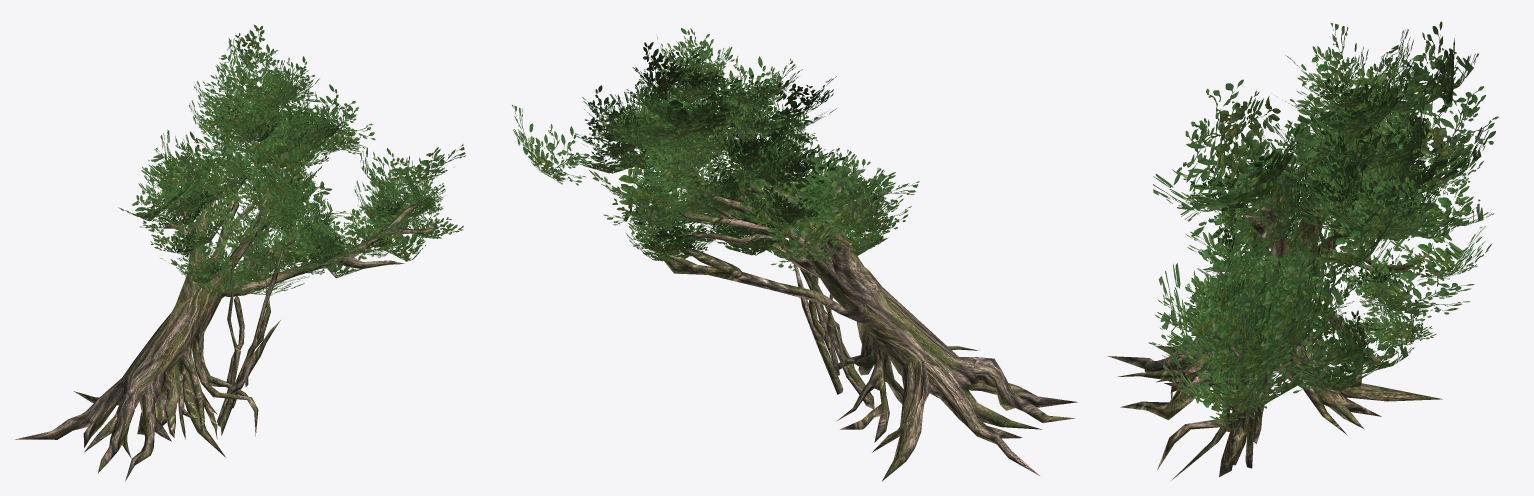
Rendered from QYS_HS_FS01_SHU.FBX.
The picture shows the model from 3 angles, left to right: view 1: azimuth 30°, elevation 25°; view 2: azimuth 150°, elevation 25°; view 3: azimuth 270°, elevation 25°; orthographic projection. The views are drawn at different scales.
Parts seen in each view (by area): view 1: QYS_HS_FS01_SY, QYS_HS_FS01_SG; view 2: QYS_HS_FS01_SY, QYS_HS_FS01_SG; view 3: QYS_HS_FS01_SY, QYS_HS_FS01_SG.
Part boxes in pixels (x1,y1,x2,y2): QYS_HS_FS01_SY: [118, 24, 465, 295]; QYS_HS_FS01_SG: [15, 162, 443, 481]; QYS_HS_FS01_SY: [512, 28, 919, 270]; QYS_HS_FS01_SG: [604, 129, 1077, 481]; QYS_HS_FS01_SY: [1148, 21, 1498, 427]; QYS_HS_FS01_SG: [1108, 141, 1442, 480].
Bounding box in the file's own units: 582 × 437 × 298.
